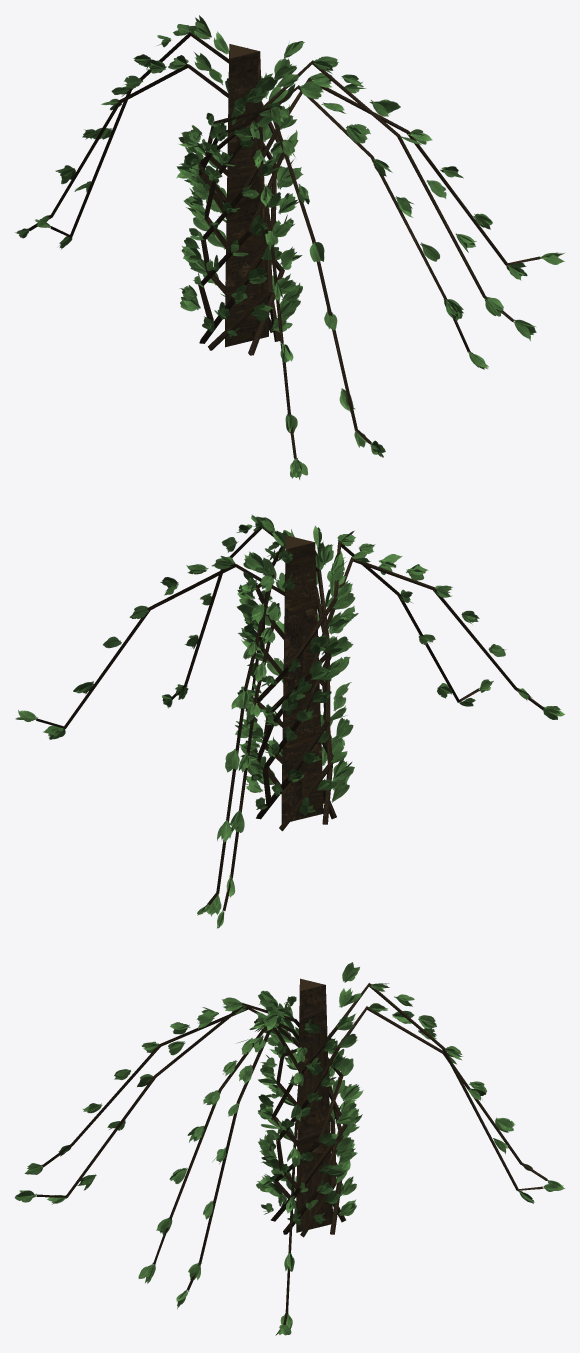
The model's file is liana_cluster_v01_LOD1.glb.
The picture shows the model from 3 angles, top to bottom: view 1: azimuth 30°, elevation 25°; view 2: azimuth 150°, elevation 25°; view 3: azimuth 270°, elevation 25°; orthographic projection. The views are drawn at different scales.
Visible parts, largest first — view 1: liana_cluster_v01_LOD1; view 2: liana_cluster_v01_LOD1; view 3: liana_cluster_v01_LOD1.
Boxes of the visible parts, left/top/right/bottom form: liana_cluster_v01_LOD1: left=15, top=15, right=564, bottom=479; liana_cluster_v01_LOD1: left=15, top=515, right=564, bottom=928; liana_cluster_v01_LOD1: left=14, top=962, right=564, bottom=1335.
Bounding box in the file's own units: 1.5 × 1.04 × 2.01.
2 materials, 2 textured.
